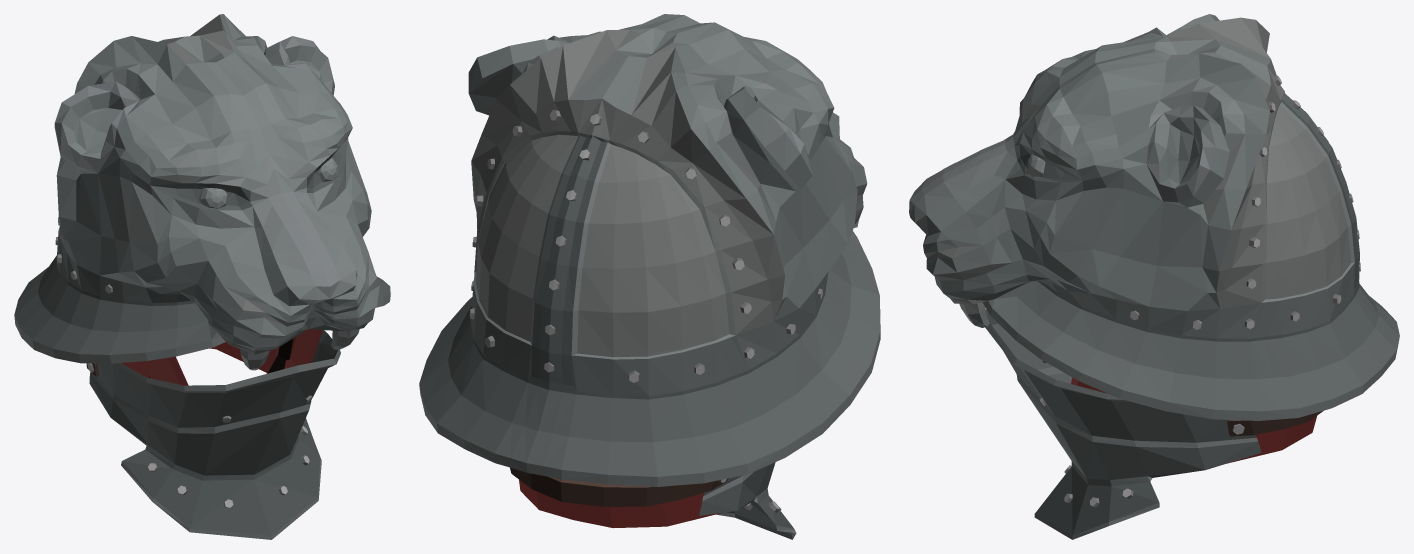
File: gateGuardCaptainLion.glb
The picture shows the model from 3 angles, left to right: view 1: azimuth 30°, elevation 25°; view 2: azimuth 150°, elevation 25°; view 3: azimuth 270°, elevation 25°; orthographic projection. The views are drawn at different scales.
Visible parts, largest first — view 1: gateGuardCaptainLion; view 2: gateGuardCaptainLion; view 3: gateGuardCaptainLion.
Part boxes in pixels (x1=…): gateGuardCaptainLion: x1=14, y1=14, x2=390, y2=539; gateGuardCaptainLion: x1=419, y1=14, x2=880, y2=539; gateGuardCaptainLion: x1=909, y1=14, x2=1399, y2=539.
Bounding box in the file's own units: 0.3826 × 0.5229 × 0.4856.
